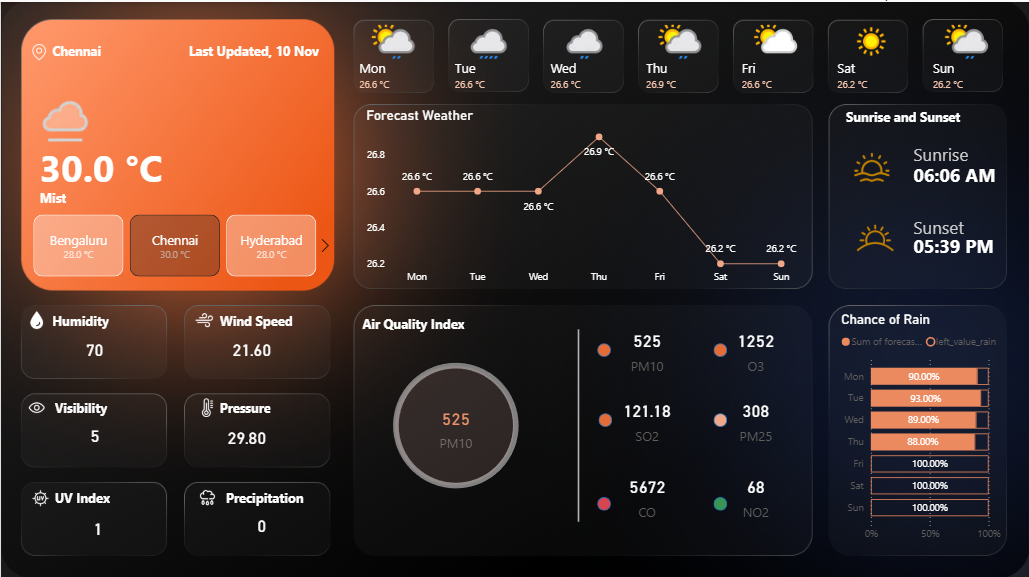

This screenshot's page, from the dashboard's own definition file:
{"tool":"powerbi","page":{"name":"Overview","canvas":[1280,720],"ordinal":0},"visuals":[{"type":"advancedSlicerVisual","fields":{"Values":["Loctions.location.name"]},"box":[15.1,259.3,403.4,87.8],"z":0},{"type":"shape","box":[48,129,177,150.9],"z":1000},{"type":"shape","box":[48,226.4,336.2,32.9],"z":2000},{"type":"shape","box":[225,43.9,170.2,32.9],"z":3000},{"type":"shape","box":[63.1,43.9,177,34.3],"z":4000},{"type":"image","box":[32.9,45.3,30.2,34.3],"z":5000},{"type":"cardVisual","fields":{"Data":["Min(Current.current.condition.icon)"]},"box":[0,83.7,137.2,120.8],"z":6000},{"type":"shape","box":[63.1,380.1,170.2,32.9],"z":7000},{"type":"shape","box":[67.2,488.5,170.2,32.9],"z":8000},{"type":"shape","box":[67.2,601,145.5,32.9],"z":9000},{"type":"shape","box":[279.9,601,170.2,32.9],"z":10000},{"type":"shape","box":[271.7,488.5,170.2,32.9],"z":11000},{"type":"shape","box":[271.7,380.1,170.2,32.9],"z":12000},{"type":"image","box":[24.7,380.1,38.4,32.9],"z":13000},{"type":"image","box":[24.7,488.5,38.4,32.9],"z":14000},{"type":"image","box":[28.8,602.4,38.4,31.6],"z":15000},{"type":"image","box":[233.3,380.1,38.4,32.9],"z":16000},{"type":"image","box":[233.3,488.5,46.7,32.9],"z":17000},{"type":"image","box":[233.3,601,46.7,32.9],"z":18000},{"type":"card","fields":{"Values":["Sum(Current.current.humidity)"]},"box":[63.1,380.1,105.7,108.4],"z":19000},{"type":"card","fields":{"Values":["Sum(Current.current.uv)"]},"box":[69,601.3,105,109.3],"z":20000},{"type":"card","fields":{"Values":["Sum(Current.current.precip_in)"]},"box":[271.9,598.4,105,107.9],"z":21000},{"type":"card","fields":{"Values":["Sum(Current.current.vis_km)"]},"box":[63.3,487.7,106.5,107.9],"z":22000},{"type":"card","fields":{"Values":["Sum(Current.current.pressure_in)"]},"box":[253.2,489.1,105,109.3],"z":23000},{"type":"card","fields":{"Values":["Sum(Current.current.wind_kph)"]},"box":[260.4,379.8,105,107.9],"z":24000},{"type":"advancedSlicerVisual","fields":{"Values":["Forecast.Day Name"]},"box":[427.2,21.6,835.8,107.9],"z":25000},{"type":"lineChart","title":"Forecast Weather","fields":{"Y":["Sum(Forecast.forecast.forecastday.day.avgtemp_c)"],"Category":["Forecast.Day Name"]},"box":[449.7,130,556.8,229.4],"z":26000},{"type":"shape","box":[1050.9,127,169.8,29.1],"z":27000},{"type":"shape","box":[1135,156,145.3,116.3],"z":28000},{"type":"shape","box":[1135,244.7,145.3,116.3],"z":29000},{"type":"shape","box":[1135,172.8,99.4,32.1],"z":30000},{"type":"shape","box":[1135,258.5,85.7,42.8],"z":31000},{"type":"image","box":[1031,179,104,53.5],"z":32000},{"type":"image","box":[1040.2,258.5,94.8,70.4],"z":33000},{"type":"hundredPercentStackedBarChart","title":"Chance of Rain","fields":{"Category":["Forecast.Day Name"],"Y":["Sum(Forecast.forecast.forecastday.day.daily_chance_of_rain)","Forecast.left_value_rain"]},"box":[1040.1,384.2,208.6,296.4],"z":34000},{"type":"shape","box":[450.1,384.2,170.2,32.9],"z":35000},{"type":"card","fields":{"Values":["Sum(Sheet1.current.air_quality.co)"]},"box":[751.4,583.4,105.8,63.8],"z":36000},{"type":"card","fields":{"Values":["Sum(Sheet1.current.air_quality.o3)"]},"box":[886.7,401.4,105.8,63.8],"z":37000},{"type":"card","fields":{"Values":["Sum(Sheet1.current.air_quality.pm2_5)"]},"box":[886.7,488.5,105.8,63.8],"z":38000},{"type":"card","fields":{"Values":["Sum(Sheet1.current.air_quality.pm10)"]},"box":[751.4,401.4,105.8,63.8],"z":39000},{"type":"card","fields":{"Values":["Sum(Sheet1.current.air_quality.so2)"]},"box":[751.4,488.5,105.8,63.8],"z":40000},{"type":"card","fields":{"Values":["Sum(Sheet1.current.air_quality.no2)"]},"box":[886.7,574,105.8,82.5],"z":41000},{"type":"shape","box":[742.1,424.7,17.1,17.1],"z":42000},{"type":"shape","box":[743.6,511.8,17.1,17.1],"z":43000},{"type":"shape","box":[742.1,616,17.1,17.1],"z":44000},{"type":"shape","box":[886.7,511.8,17.1,17.1],"z":45000},{"type":"shape","box":[886.7,616,17.1,17.1],"z":46000},{"type":"shape","box":[886.7,424.7,17.1,17.1],"z":47000},{"type":"shape","box":[633.2,407.6,171.1,239.6],"z":48000},{"type":"card","fields":{"Values":["Sum(Sheet1.current.air_quality.pm10)"]},"box":[513.4,497.8,105.8,63.8],"z":49000},{"type":"donutChart","fields":{"Y":["Sum(Current.current.air_quality.pm10)"]},"box":[409.1,424.7,314.2,205.3],"z":49001},{"type":"shape","box":[490,452.7,149.3,149.3],"z":49002}]}

Visuals, with their boxes in screenshot pixels (x1, y1, x2, y2), scaled from the page's 1280x720 canvas onto the 1029x577 screenshot:
advancedSlicerVisual - Loctions.location.name: bbox(12, 208, 336, 278)
shape: bbox(39, 103, 181, 224)
shape: bbox(39, 181, 309, 208)
shape: bbox(181, 35, 318, 62)
shape: bbox(51, 35, 193, 63)
image: bbox(26, 36, 51, 64)
cardVisual - Min(Current.current.condition.icon): bbox(0, 67, 110, 164)
shape: bbox(51, 305, 188, 331)
shape: bbox(54, 391, 191, 418)
shape: bbox(54, 482, 171, 508)
shape: bbox(225, 482, 362, 508)
shape: bbox(218, 391, 355, 418)
shape: bbox(218, 305, 355, 331)
image: bbox(20, 305, 51, 331)
image: bbox(20, 391, 51, 418)
image: bbox(23, 483, 54, 508)
image: bbox(188, 305, 218, 331)
image: bbox(188, 391, 225, 418)
image: bbox(188, 482, 225, 508)
card - Sum(Current.current.humidity): bbox(51, 305, 136, 391)
card - Sum(Current.current.uv): bbox(55, 482, 140, 569)
card - Sum(Current.current.precip_in): bbox(219, 480, 303, 566)
card - Sum(Current.current.vis_km): bbox(51, 391, 137, 477)
card - Sum(Current.current.pressure_in): bbox(204, 392, 288, 480)
card - Sum(Current.current.wind_kph): bbox(209, 304, 294, 391)
advancedSlicerVisual - Forecast.Day Name: bbox(343, 17, 1015, 104)
"Forecast Weather" lineChart: bbox(362, 104, 809, 288)
shape: bbox(845, 102, 981, 125)
shape: bbox(912, 125, 1028, 218)
shape: bbox(912, 196, 1028, 289)
shape: bbox(912, 138, 992, 164)
shape: bbox(912, 207, 981, 241)
image: bbox(829, 143, 912, 186)
image: bbox(836, 207, 912, 264)
"Chance of Rain" hundredPercentStackedBarChart: bbox(836, 308, 1004, 545)
shape: bbox(362, 308, 499, 334)
card - Sum(Sheet1.current.air_quality.co): bbox(604, 468, 689, 519)
card - Sum(Sheet1.current.air_quality.o3): bbox(713, 322, 798, 373)
card - Sum(Sheet1.current.air_quality.pm2_5): bbox(713, 391, 798, 443)
card - Sum(Sheet1.current.air_quality.pm10): bbox(604, 322, 689, 373)
card - Sum(Sheet1.current.air_quality.so2): bbox(604, 391, 689, 443)
card - Sum(Sheet1.current.air_quality.no2): bbox(713, 460, 798, 526)
shape: bbox(597, 340, 610, 354)
shape: bbox(598, 410, 612, 424)
shape: bbox(597, 494, 610, 507)
shape: bbox(713, 410, 727, 424)
shape: bbox(713, 494, 727, 507)
shape: bbox(713, 340, 727, 354)
shape: bbox(509, 327, 647, 519)
card - Sum(Sheet1.current.air_quality.pm10): bbox(413, 399, 498, 450)
donutChart - Sum(Current.current.air_quality.pm10): bbox(329, 340, 581, 505)
shape: bbox(394, 363, 514, 482)
